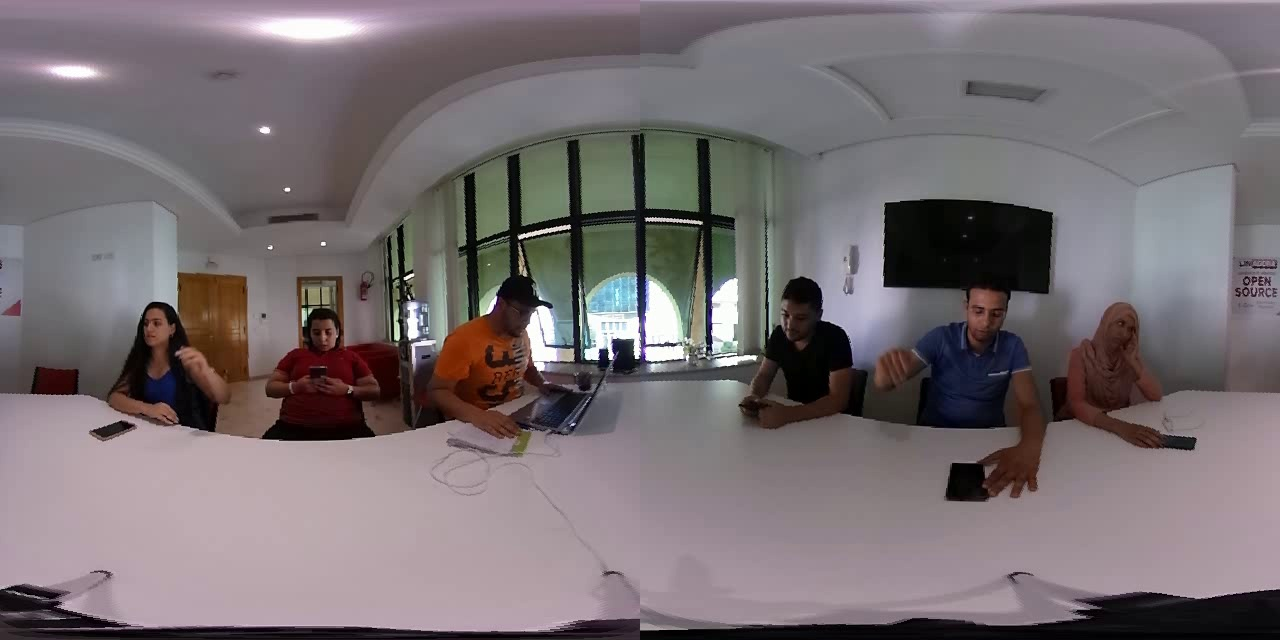person: (870, 270, 1052, 512), (420, 272, 583, 439), (1059, 292, 1201, 452), (736, 272, 861, 440), (244, 298, 389, 441), (101, 294, 231, 451)
